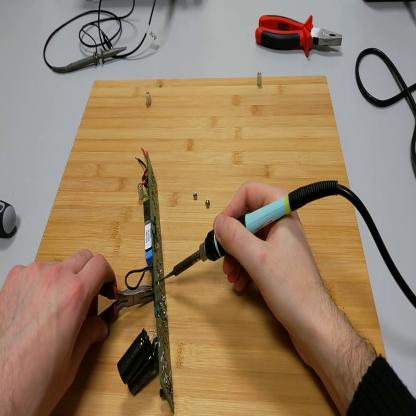hand: (2, 249, 117, 415), (213, 186, 326, 348)
high voltage board: (118, 149, 175, 416)
oscilloscope probe tip: (64, 45, 129, 74)
pliers: (255, 14, 348, 65), (96, 277, 158, 326)
screwdriver-: (2, 196, 16, 241)
welder probe tip: (165, 181, 339, 280)
working area: (33, 67, 386, 416)
